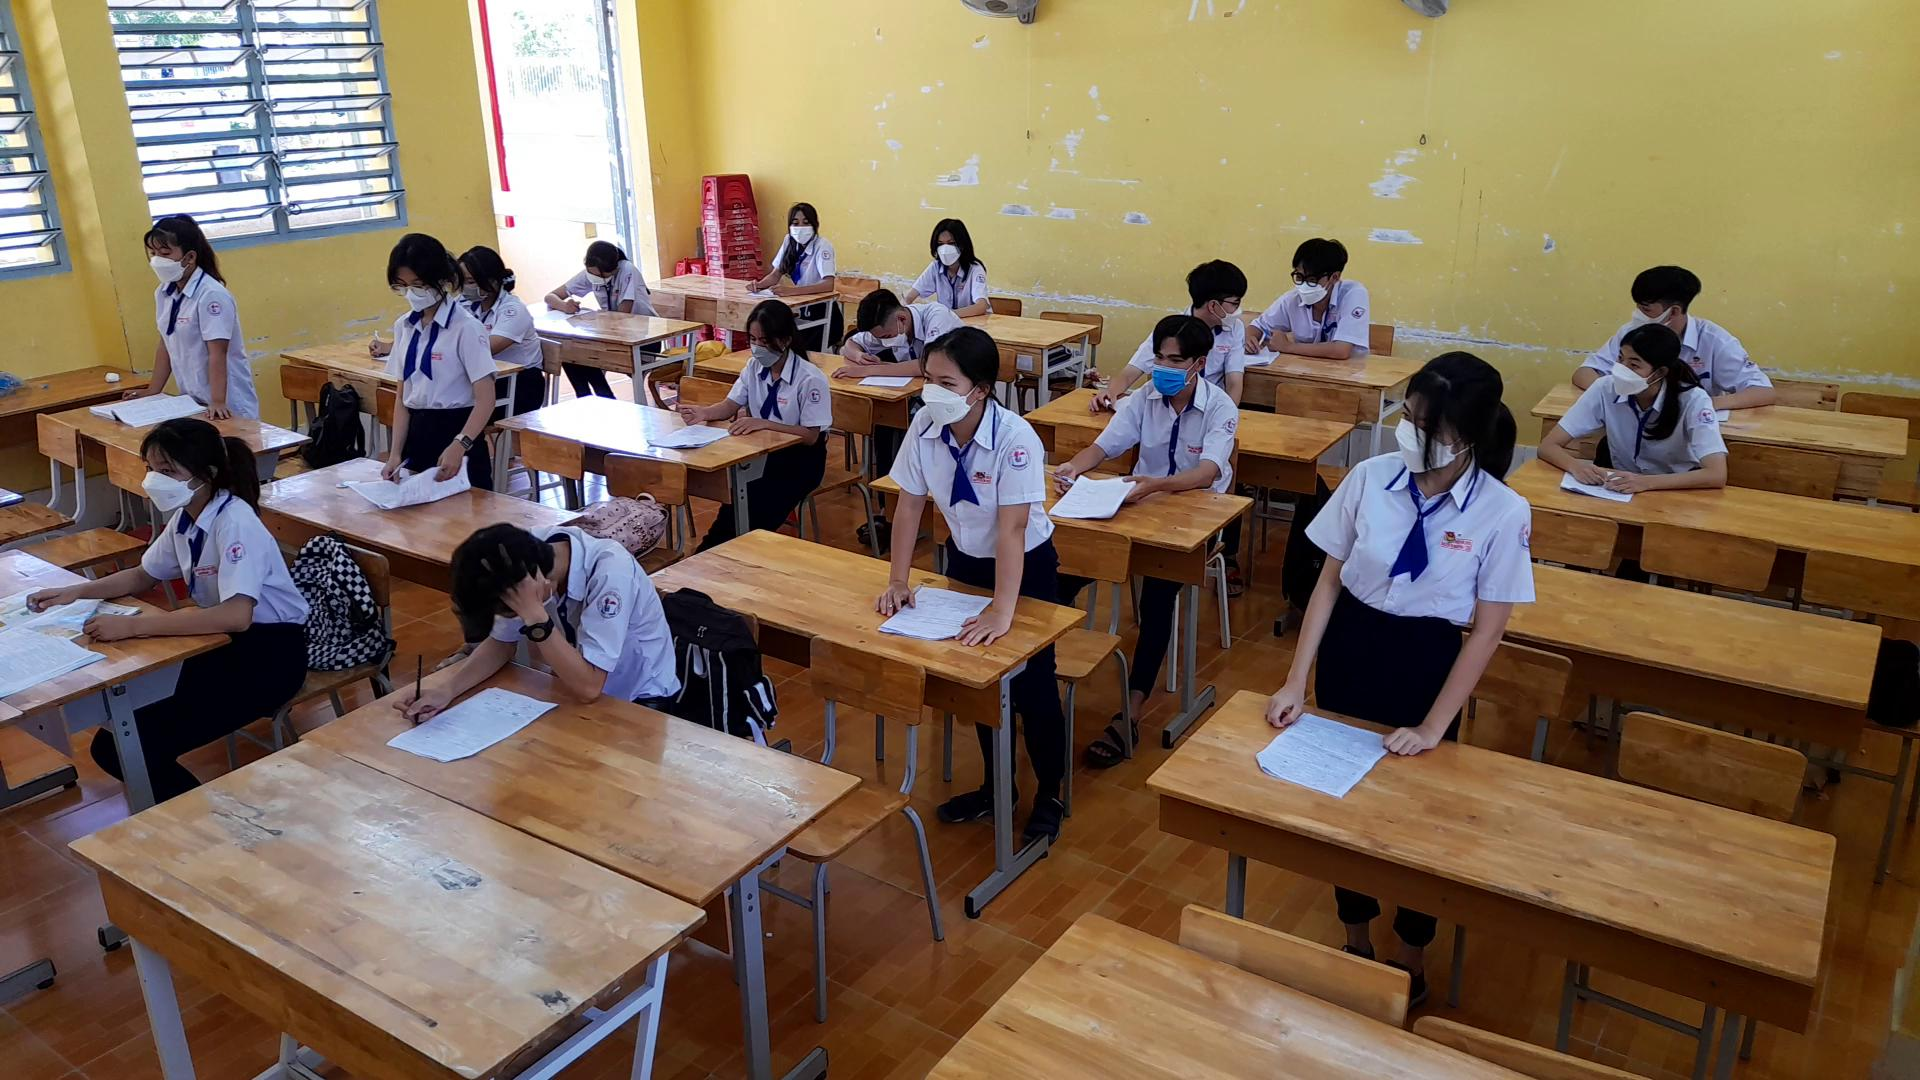Hand Under Table: (612, 266, 645, 326)
Look Around: (1167, 247, 1254, 336)
Normal: (80, 413, 315, 638), (1046, 305, 1241, 516), (1527, 316, 1734, 495), (674, 291, 845, 444), (1257, 225, 1375, 355), (737, 193, 845, 305), (913, 204, 998, 320)
Stand Up: (1255, 345, 1549, 756), (872, 320, 1065, 651), (363, 232, 498, 497), (131, 204, 262, 425)
Wave: (502, 563, 642, 702)
